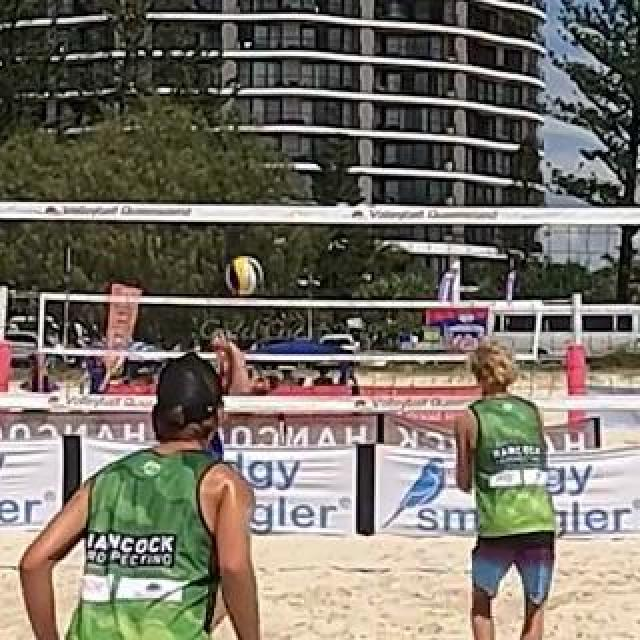volleyball: (225, 257, 263, 293)
